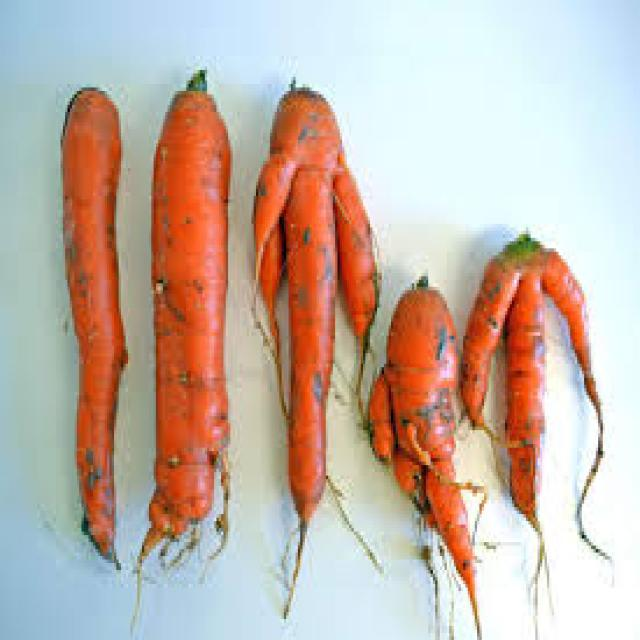Carrot: (57, 91, 130, 566)
